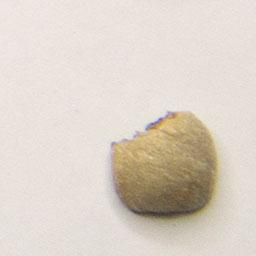defect: (100, 101, 223, 224)
